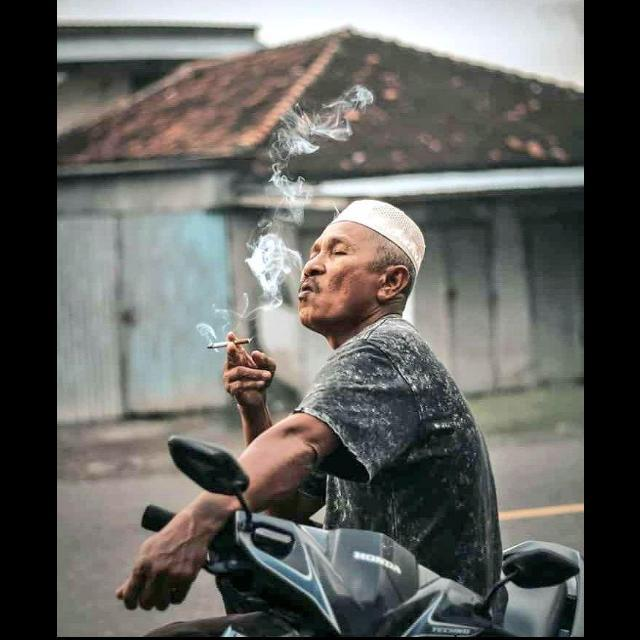rokok: (203, 336, 250, 352)
